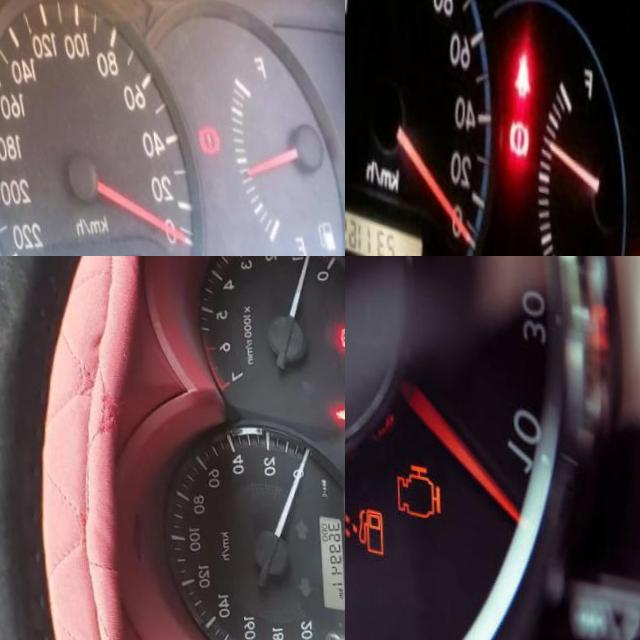Seat Belt: (509, 36, 532, 86), (334, 389, 345, 406)
